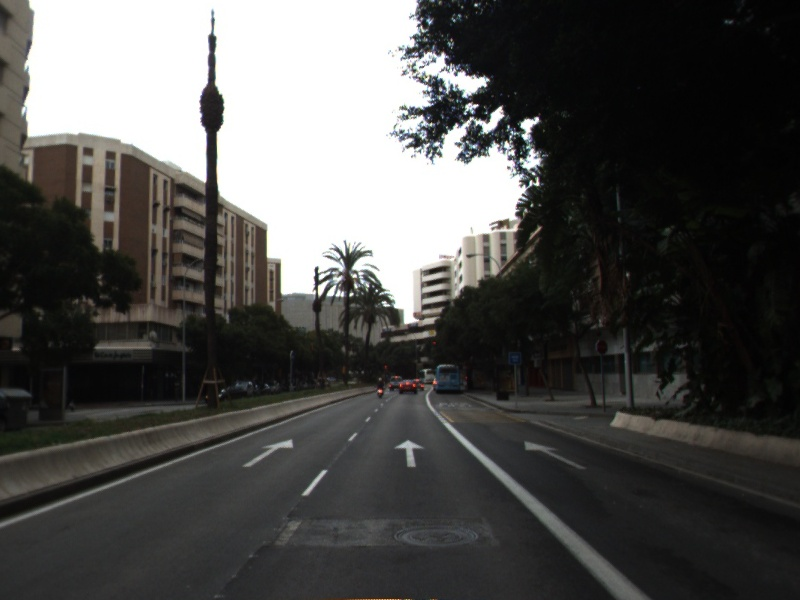STRAIGHT: (522, 439, 589, 471), (241, 437, 295, 469), (392, 437, 426, 469)
